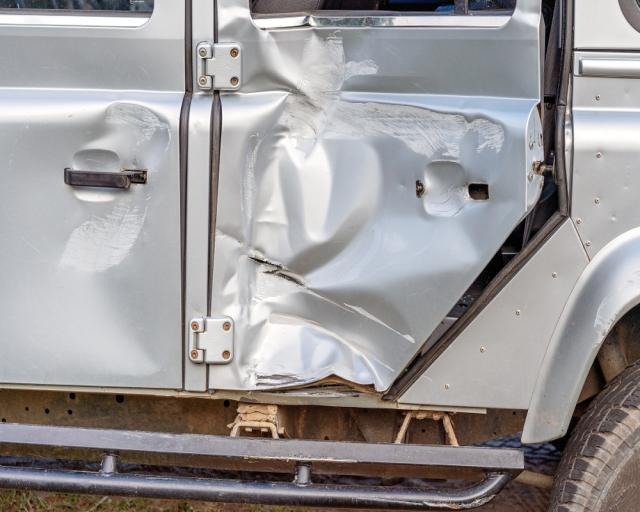dent: (222, 12, 508, 396), (58, 212, 160, 375), (89, 104, 171, 169)
scratch: (591, 271, 640, 351)
